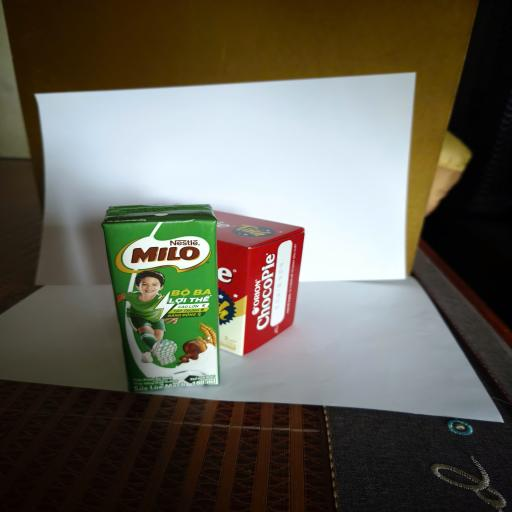chocopie: (212, 210, 305, 357)
milo: (101, 204, 220, 393)
